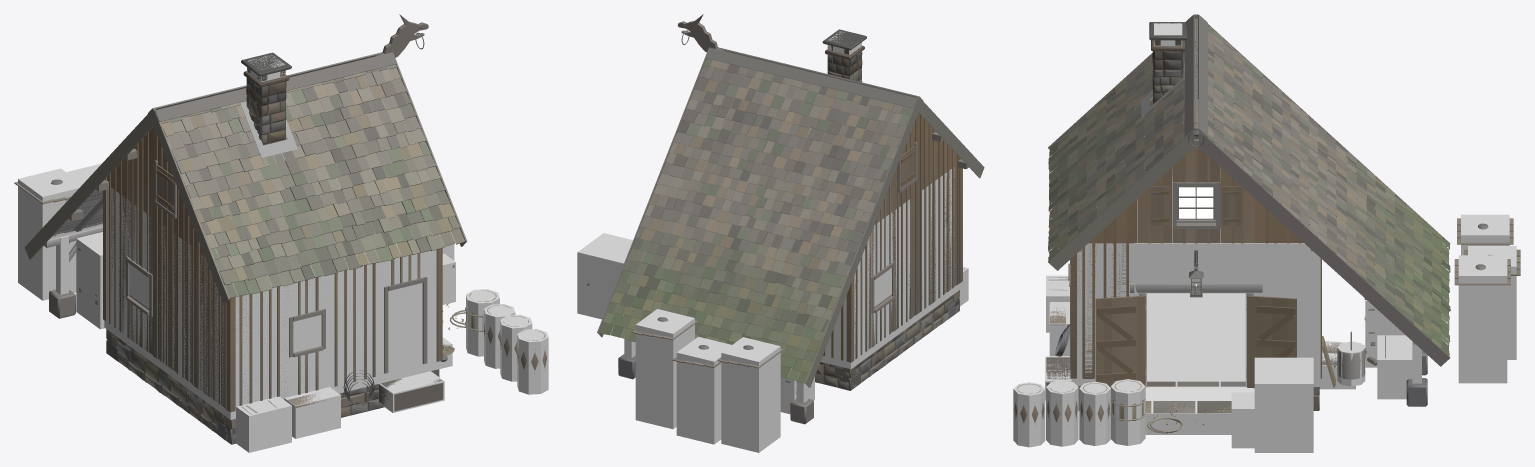
Rendered from cooperage.glb.
3 renders of one model, left to right at view 1: azimuth 30°, elevation 25°; view 2: azimuth 150°, elevation 25°; view 3: azimuth 270°, elevation 25°, orthographic. The views are drawn at different scales.
Visible parts, largest first — view 1: Roof shingles / coop_shingle, Wall boards, Cooper's half solid, Roof shingles / coop_boarding, West wall solid, Open tower 0 solid, Plinth, Chimney / tav_stone, Joinery / tav_oak, Woodpile solid, Stave tower 0 solid, Bench by the door solid (+16 smaller); view 2: Roof shingles / coop_shingle, Wall boards, Roof shingles / coop_boarding, Open tower 0 solid, West wall solid, Open tower 2 solid, Open tower 1 solid, Handcart solid, Plinth, Cooper's half solid, Chimney / tav_stone, Padstones (+7 smaller); view 3: Roof shingles / coop_shingle, Wall boards, Roof shingles / coop_boarding, Floor solid, Open tower 2 solid, Handcart solid, East wall north solid, Door Workshop south, East wall head solid, Cooper's half solid, Door Workshop north, Door flags solid (+26 smaller).
Part boxes in pixels (<box>): Roof shingles / coop_shingle: <box>160,64,465,298</box>; Wall boards: <box>103,127,442,412</box>; Cooper's half solid: <box>199,250,441,419</box>; Roof shingles / coop_boarding: <box>24,52,467,304</box>; West wall solid: <box>104,187,198,396</box>; Open tower 0 solid: <box>18,168,82,300</box>; Plinth: <box>107,330,384,442</box>; Chimney / tav_stone: <box>241,52,291,145</box>; Joinery / tav_oak: <box>125,160,427,373</box>; Woodpile solid: <box>236,396,291,452</box>; Stave tower 0 solid: <box>76,232,104,329</box>; Bench by the door solid: <box>284,387,340,438</box>; Roof shingles / coop_shingle: <box>599,58,912,383</box>; Wall boards: <box>823,113,962,362</box>; Roof shingles / coop_boarding: <box>597,47,984,387</box>; Open tower 0 solid: <box>721,337,780,452</box>; West wall solid: <box>843,183,933,369</box>; Open tower 2 solid: <box>635,309,694,429</box>; Open tower 1 solid: <box>676,336,731,444</box>; Handcart solid: <box>577,233,632,319</box>; Plinth: <box>815,295,959,389</box>; Cooper's half solid: <box>934,167,961,308</box>; Chimney / tav_stone: <box>822,29,866,82</box>; Padstones: <box>618,354,813,424</box>; Roof shingles / coop_shingle: <box>1048,17,1450,356</box>; Wall boards: <box>1070,99,1321,378</box>; Roof shingles / coop_boarding: <box>1048,14,1450,366</box>; Floor solid: <box>1147,293,1245,385</box>; Open tower 2 solid: <box>1458,255,1507,383</box>; Handcart solid: <box>1254,357,1313,452</box>; East wall north solid: <box>1245,243,1320,386</box>; Door Workshop south: <box>1095,295,1146,387</box>; East wall head solid: <box>1147,238,1245,293</box>; Cooper's half solid: <box>1071,243,1134,386</box>; Door Workshop north: <box>1246,295,1296,388</box>; Door flags solid: <box>1145,387,1254,434</box>.
Bounding box in the file's own units: 8 × 7.68 × 10.79.
